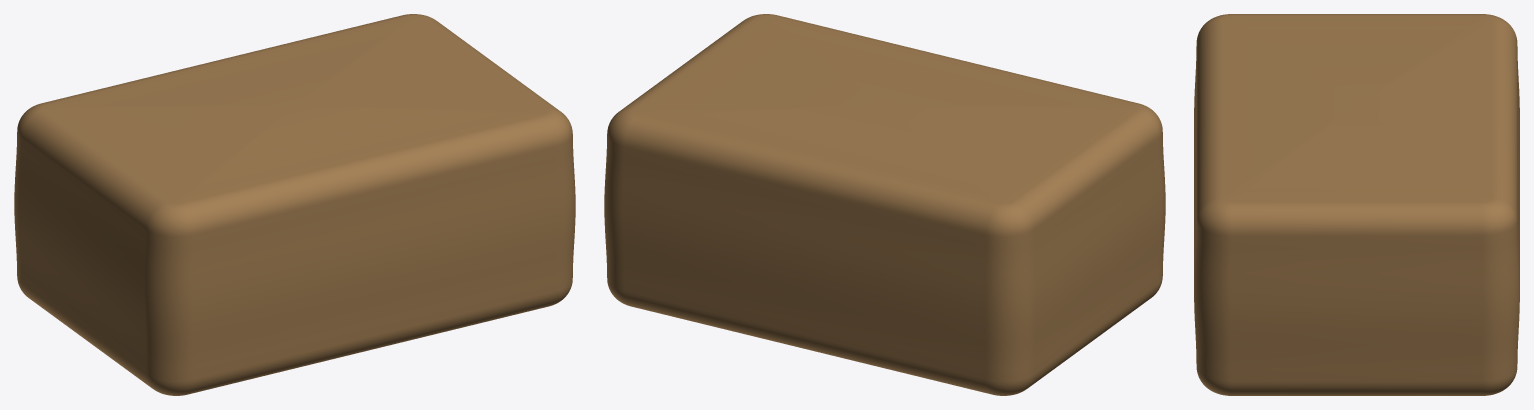
3 views of the same model, side by side, from view 1: azimuth 30°, elevation 25°; view 2: azimuth 150°, elevation 25°; view 3: azimuth 270°, elevation 25° (orthographic).
Visible parts, largest first — view 1: part_000_soap_body; view 2: part_000_soap_body; view 3: part_000_soap_body.
Boxes of the visible parts, box(x1,y1,x2,y2) form: part_000_soap_body: box(14, 14, 575, 395); part_000_soap_body: box(604, 14, 1165, 395); part_000_soap_body: box(1194, 14, 1519, 395).
Bounding box in the file's own units: 0.07 × 0.031 × 0.046.
